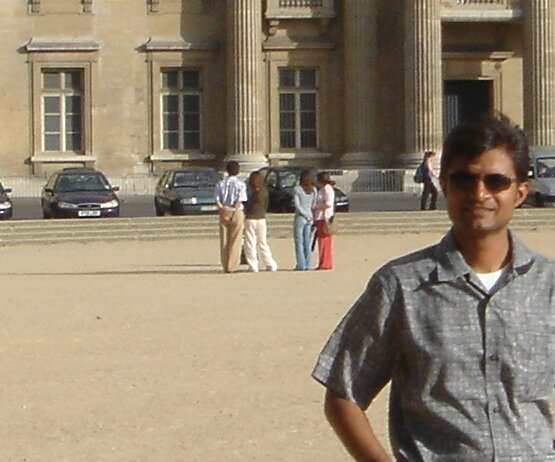person: (340, 111, 553, 462), (209, 154, 249, 276), (292, 167, 323, 268)
